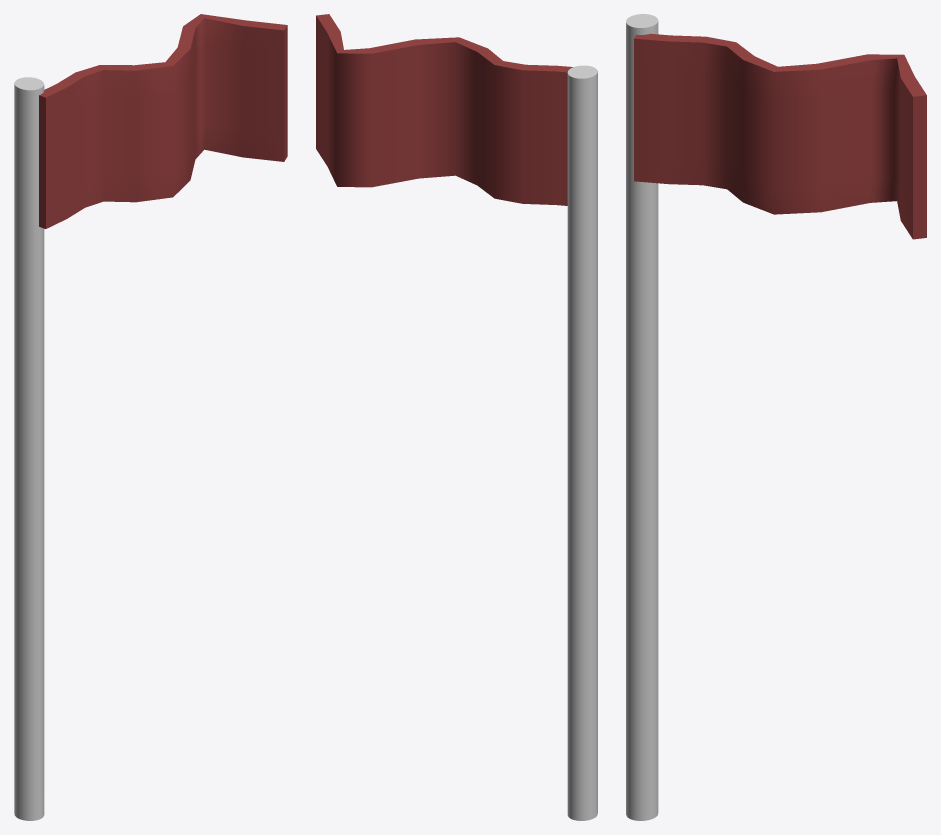
The model's file is flagg.fbx.
3 renders of one model, left to right at view 1: azimuth 30°, elevation 25°; view 2: azimuth 150°, elevation 25°; view 3: azimuth 330°, elevation 25°, orthographic. The views are drawn at different scales.
Visible parts, largest first — view 1: pPlane1, pCylinder1; view 2: pPlane1, pCylinder1; view 3: pPlane1, pCylinder1.
Part boxes in pixels (left/top/right/bottom): pPlane1: left=39, top=14, right=287, bottom=228; pCylinder1: left=14, top=77, right=44, bottom=820; pPlane1: left=316, top=14, right=573, bottom=205; pCylinder1: left=567, top=65, right=597, bottom=820; pPlane1: left=634, top=33, right=926, bottom=239; pCylinder1: left=626, top=14, right=658, bottom=820.
Size of the model in its own units: 2.96 by 7.57 by 0.8842.
